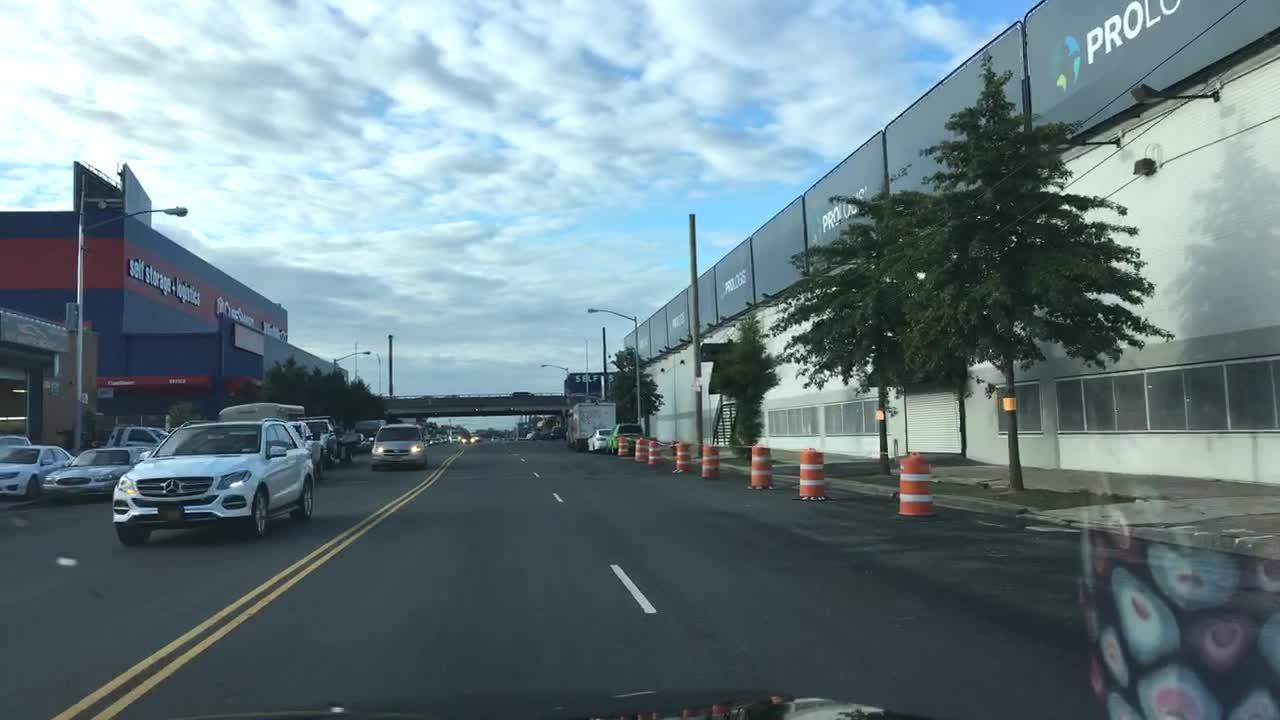Mercedes: (159, 478, 184, 498)
